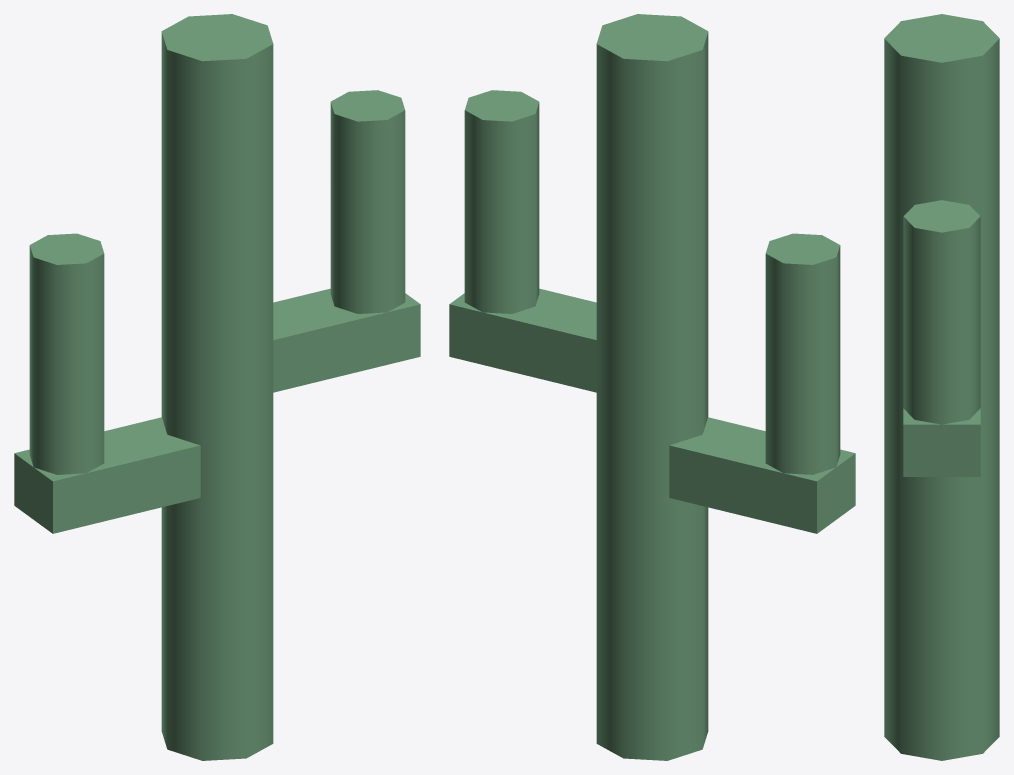
The model's file is cactus.glb.
3 views of the same model, side by side, from view 1: azimuth 30°, elevation 25°; view 2: azimuth 150°, elevation 25°; view 3: azimuth 270°, elevation 25° (orthographic).
Parts seen in each view (by area): view 1: cactus; view 2: cactus; view 3: cactus.
Boxes of the visible parts, bbox=[...] form: cactus: bbox=[14, 14, 420, 760]; cactus: bbox=[449, 14, 855, 760]; cactus: bbox=[884, 14, 999, 760].
Size of the model in its own units: 2.75 by 5 by 0.75.
